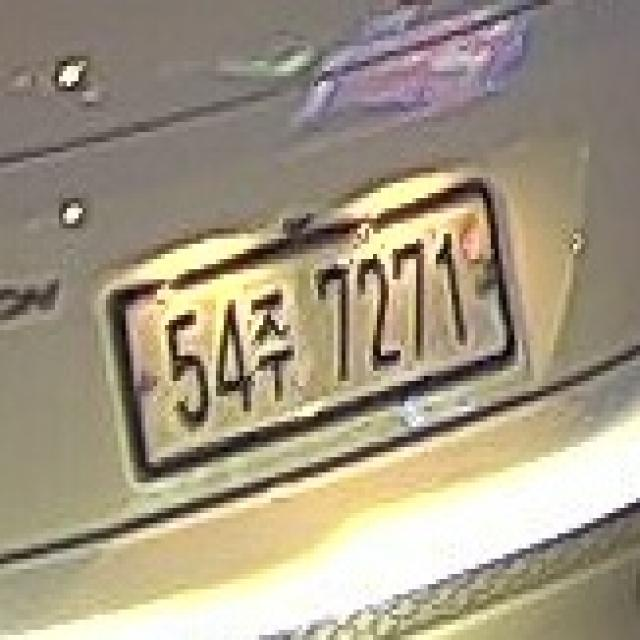1: (420, 228, 475, 366)
2: (354, 234, 396, 381)
4: (212, 269, 255, 432)
5: (161, 284, 212, 432)
7: (306, 244, 349, 396), (389, 218, 432, 366)
ju: (243, 274, 294, 402)
license_plate: (90, 173, 530, 503)
